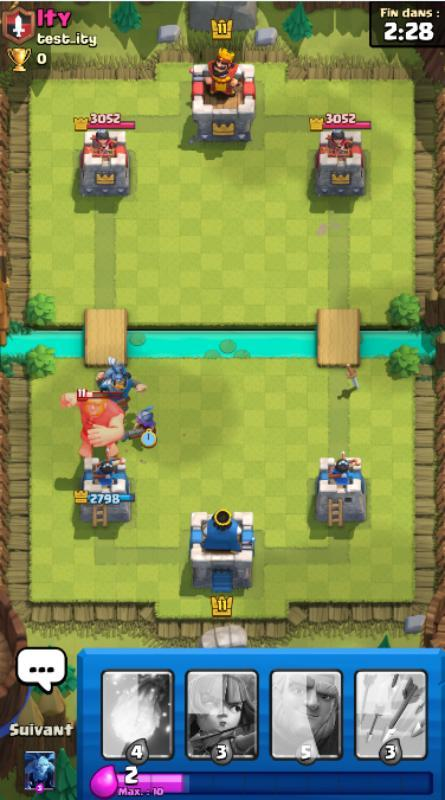chevalier: (95, 368, 148, 410)
gargouille: (58, 387, 125, 461), (101, 357, 131, 390)
mousquetaire: (121, 405, 159, 443)
